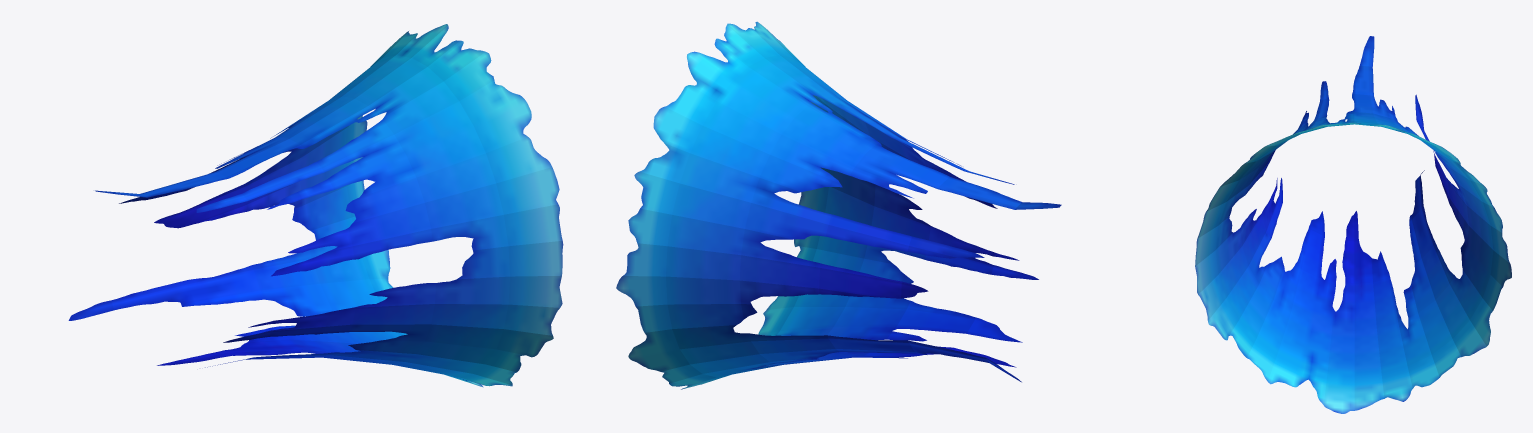
Rendered from Boost5.fbx.
3 views of the same model, side by side, from view 1: azimuth 30°, elevation 25°; view 2: azimuth 150°, elevation 25°; view 3: azimuth 270°, elevation 25° (orthographic). The views are drawn at different scales.
Parts seen in each view (by area): view 1: Boost5; view 2: Boost5; view 3: Boost5.
Boxes of the visible parts, x1,y1,x2,y2 form: Boost5: [68, 24, 563, 387]; Boost5: [616, 21, 1061, 389]; Boost5: [1195, 36, 1511, 413].
Size of the model in its own units: 231 by 194 by 194.
